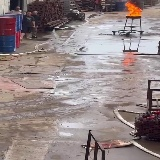fire: (125, 3, 141, 16)
